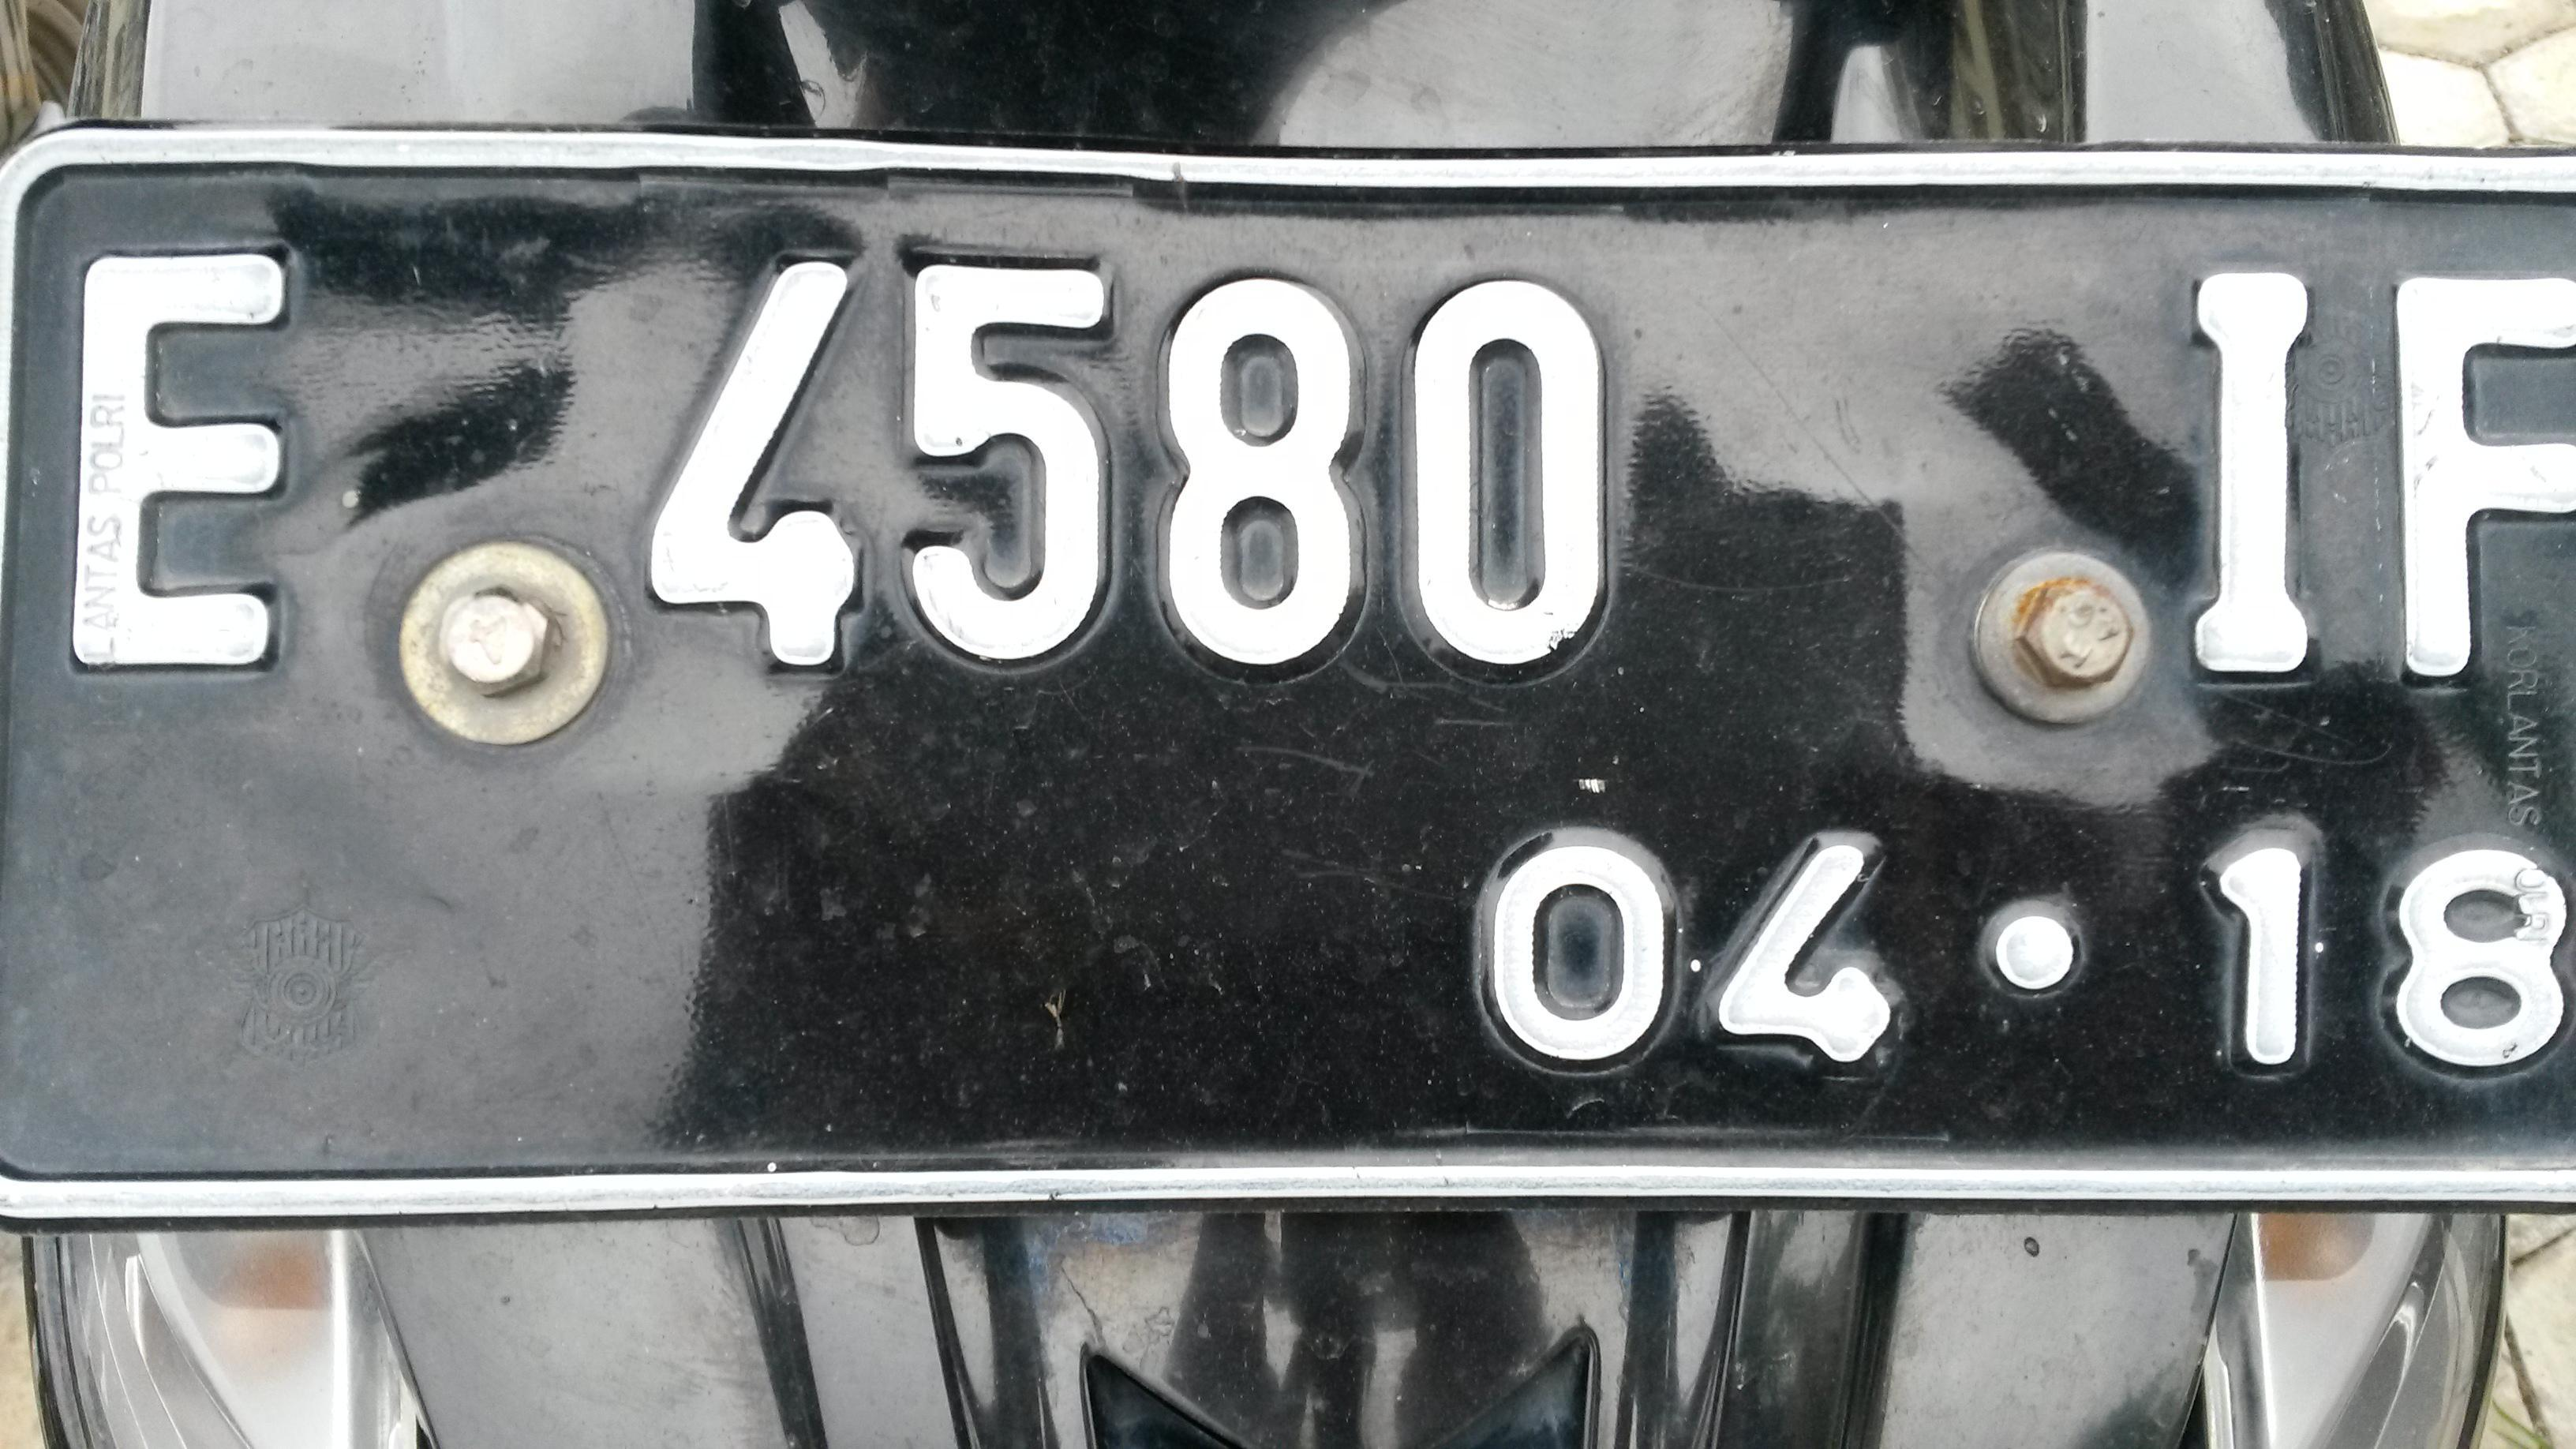clone-license-plate: (2, 117, 2575, 1220)
